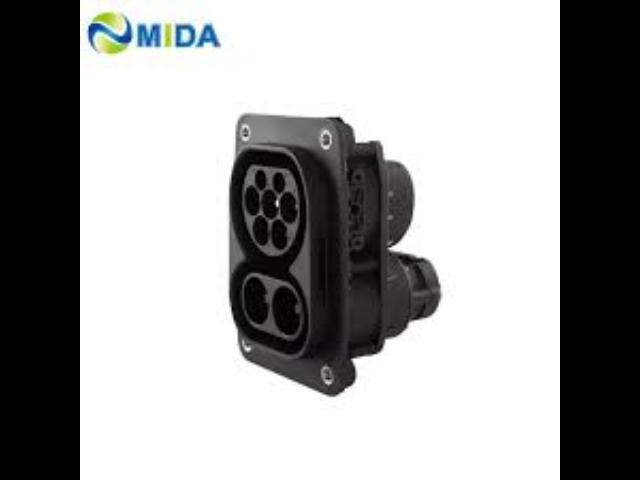inlet: (242, 165, 300, 257)
inlet-above-left: (254, 169, 266, 190)
inlet-above-right: (272, 173, 285, 193)
inlet-below-left: (253, 216, 268, 246)
inlet-below-right: (272, 219, 287, 249)
inlet-circle: (262, 189, 278, 220)
inlet-circle-left: (245, 187, 259, 214)
inlet-circle-right: (281, 193, 295, 223)
inlet-minus: (271, 286, 300, 336)
inlet-plus: (244, 277, 268, 324)
